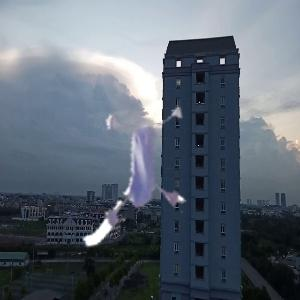drone: (60, 97, 205, 242)
